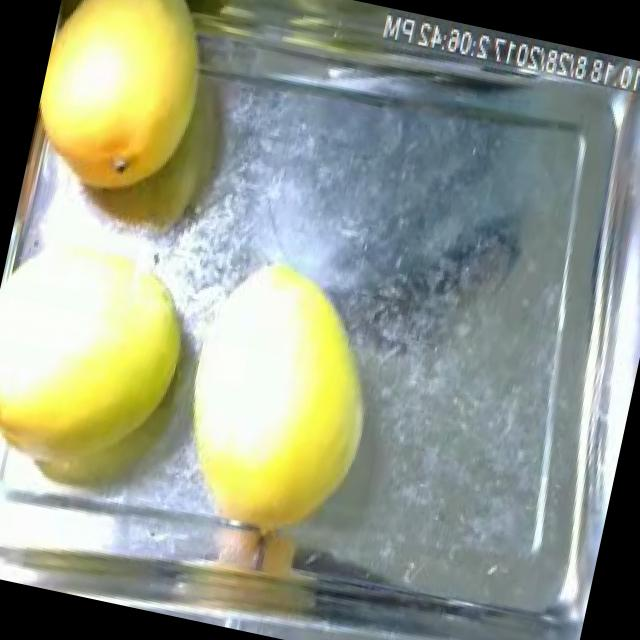fruit: (0, 217, 234, 535), (194, 245, 412, 572), (21, 0, 233, 218), (0, 86, 79, 295)
